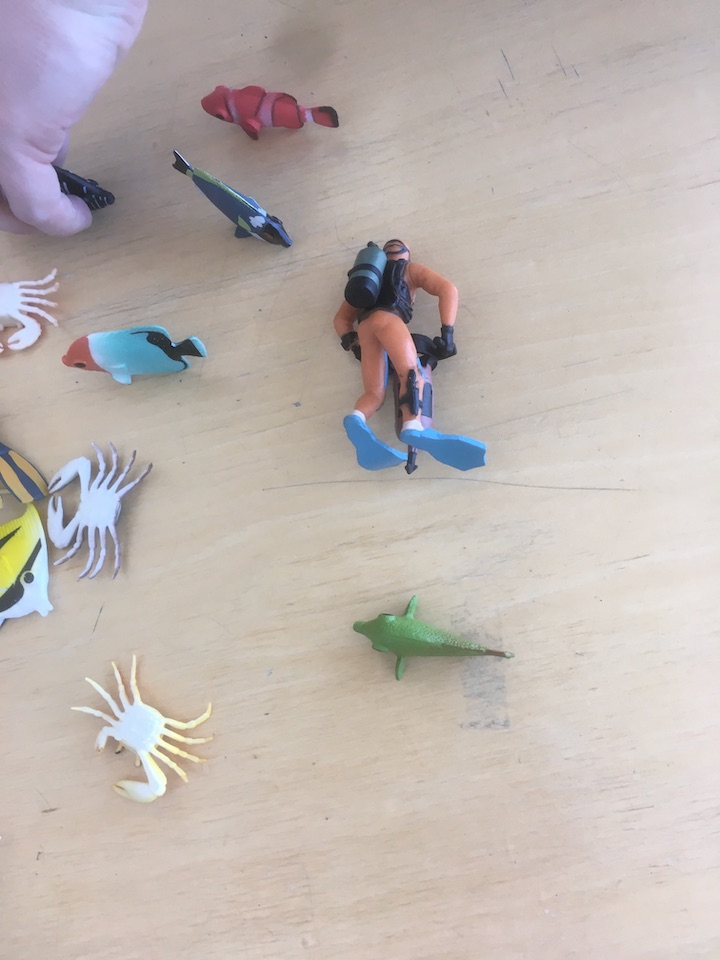crab: (64, 651, 217, 807), (42, 437, 155, 582), (1, 263, 61, 362)
diver: (331, 234, 492, 480), (1, 500, 60, 630), (1, 433, 55, 508)
fish: (348, 592, 520, 682), (168, 148, 299, 254), (60, 321, 211, 387), (196, 79, 343, 140)
